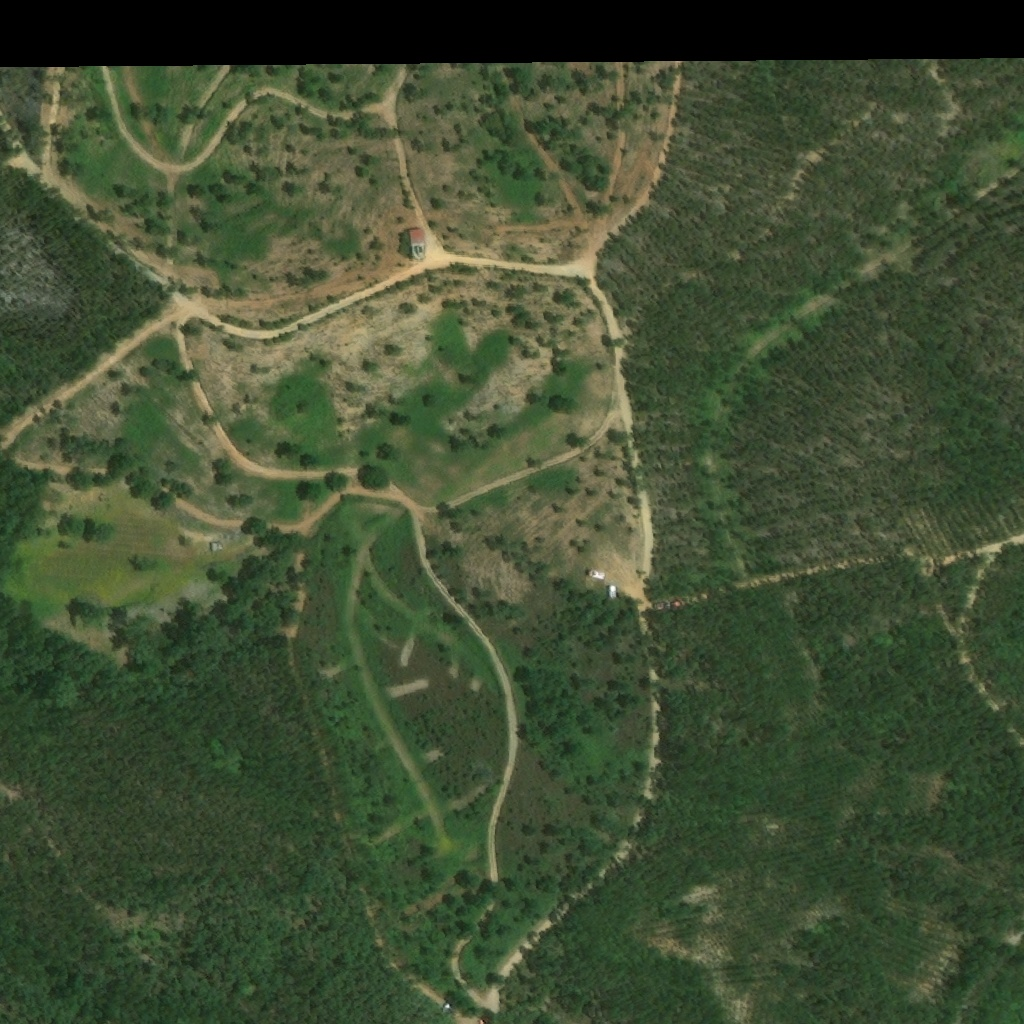0 no-damage: (409, 229, 427, 258)
